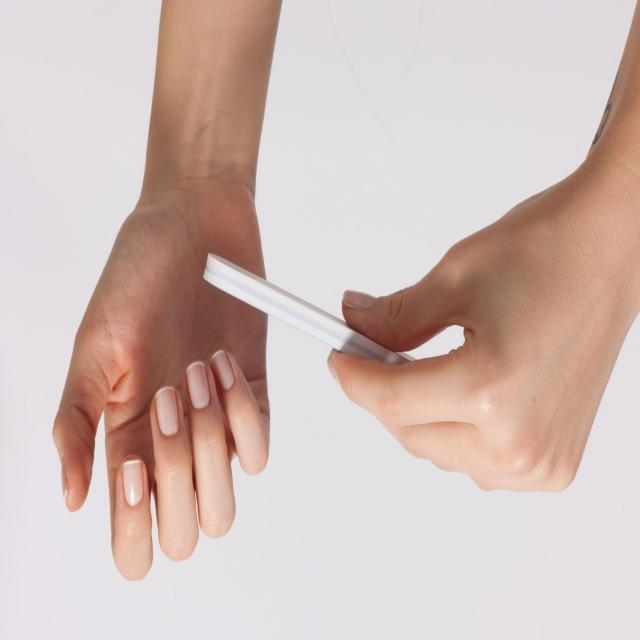no_apron: (316, 203, 630, 539), (53, 199, 283, 604)
